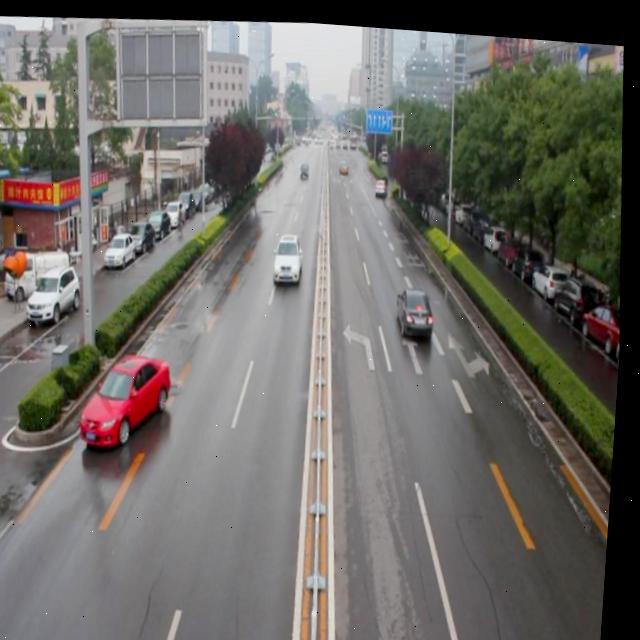car: (83, 349, 181, 444), (395, 277, 439, 334), (272, 225, 309, 281), (375, 169, 389, 193)
truck: (300, 156, 312, 176)
